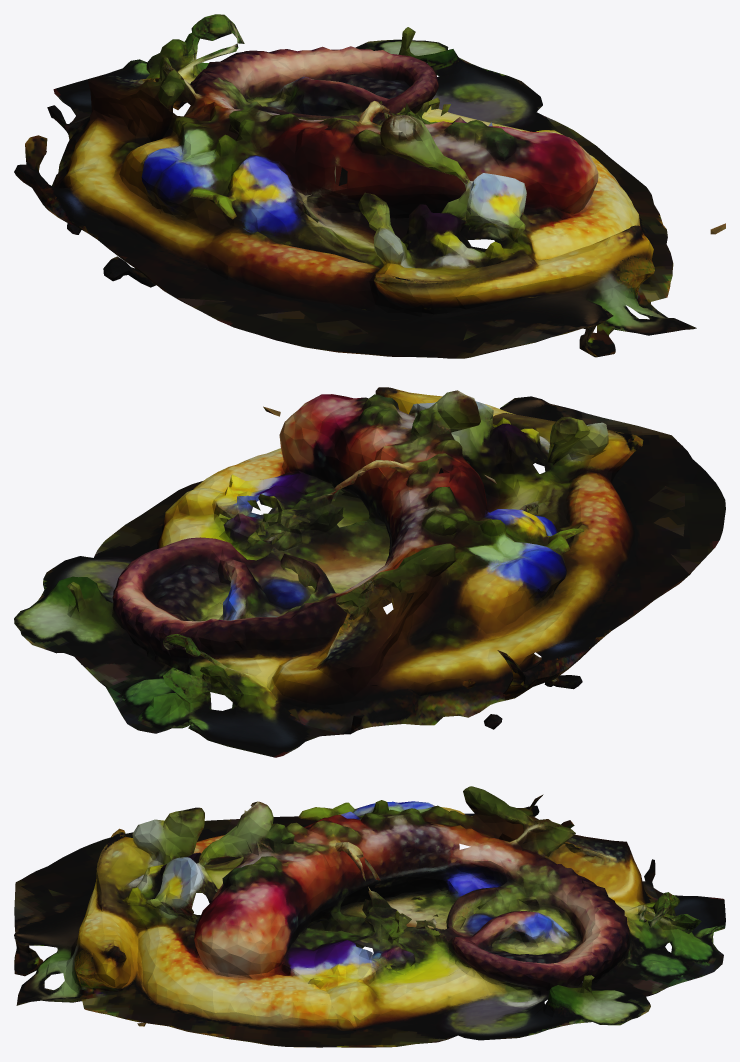
The model's file is pulpo-brasa.glb.
The picture shows the model from 3 angles, top to bottom: view 1: azimuth 30°, elevation 25°; view 2: azimuth 150°, elevation 25°; view 3: azimuth 270°, elevation 25°; orthographic projection. The views are drawn at different scales.
Visible parts, largest first — view 1: world; view 2: world; view 3: world.
Boxes of the visible parts, x1=… form: world: x1=14, y1=14, x2=725, y2=358; world: x1=14, y1=387, x2=725, y2=757; world: x1=14, y1=786, x2=725, y2=1047.
Bounding box in the file's own units: 0.7071 × 0.2614 × 1.
Materials: 1 (1 with a texture image).
